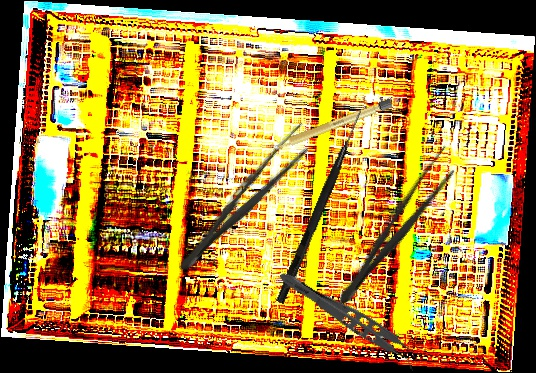Dressing Forceps: (169, 117, 321, 281), (328, 141, 467, 314)
Hook Surgical: (275, 108, 365, 305)
Scalpel Handle: (271, 97, 393, 153)
Tissue Forceps: (271, 268, 425, 373)
